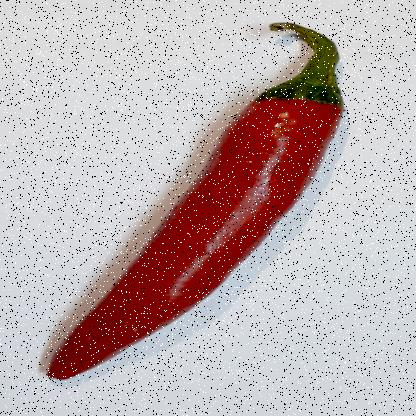chili: (28, 21, 350, 381)
